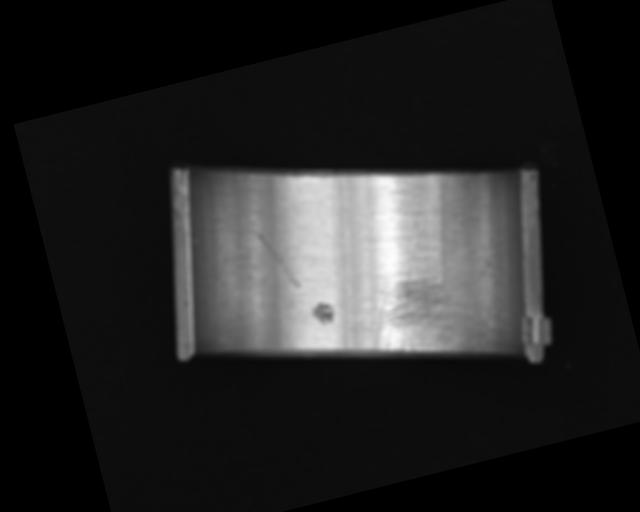bruise: (309, 300, 336, 326)
nick: (314, 174, 363, 294), (252, 222, 301, 296)
scratch: (356, 255, 487, 379)
